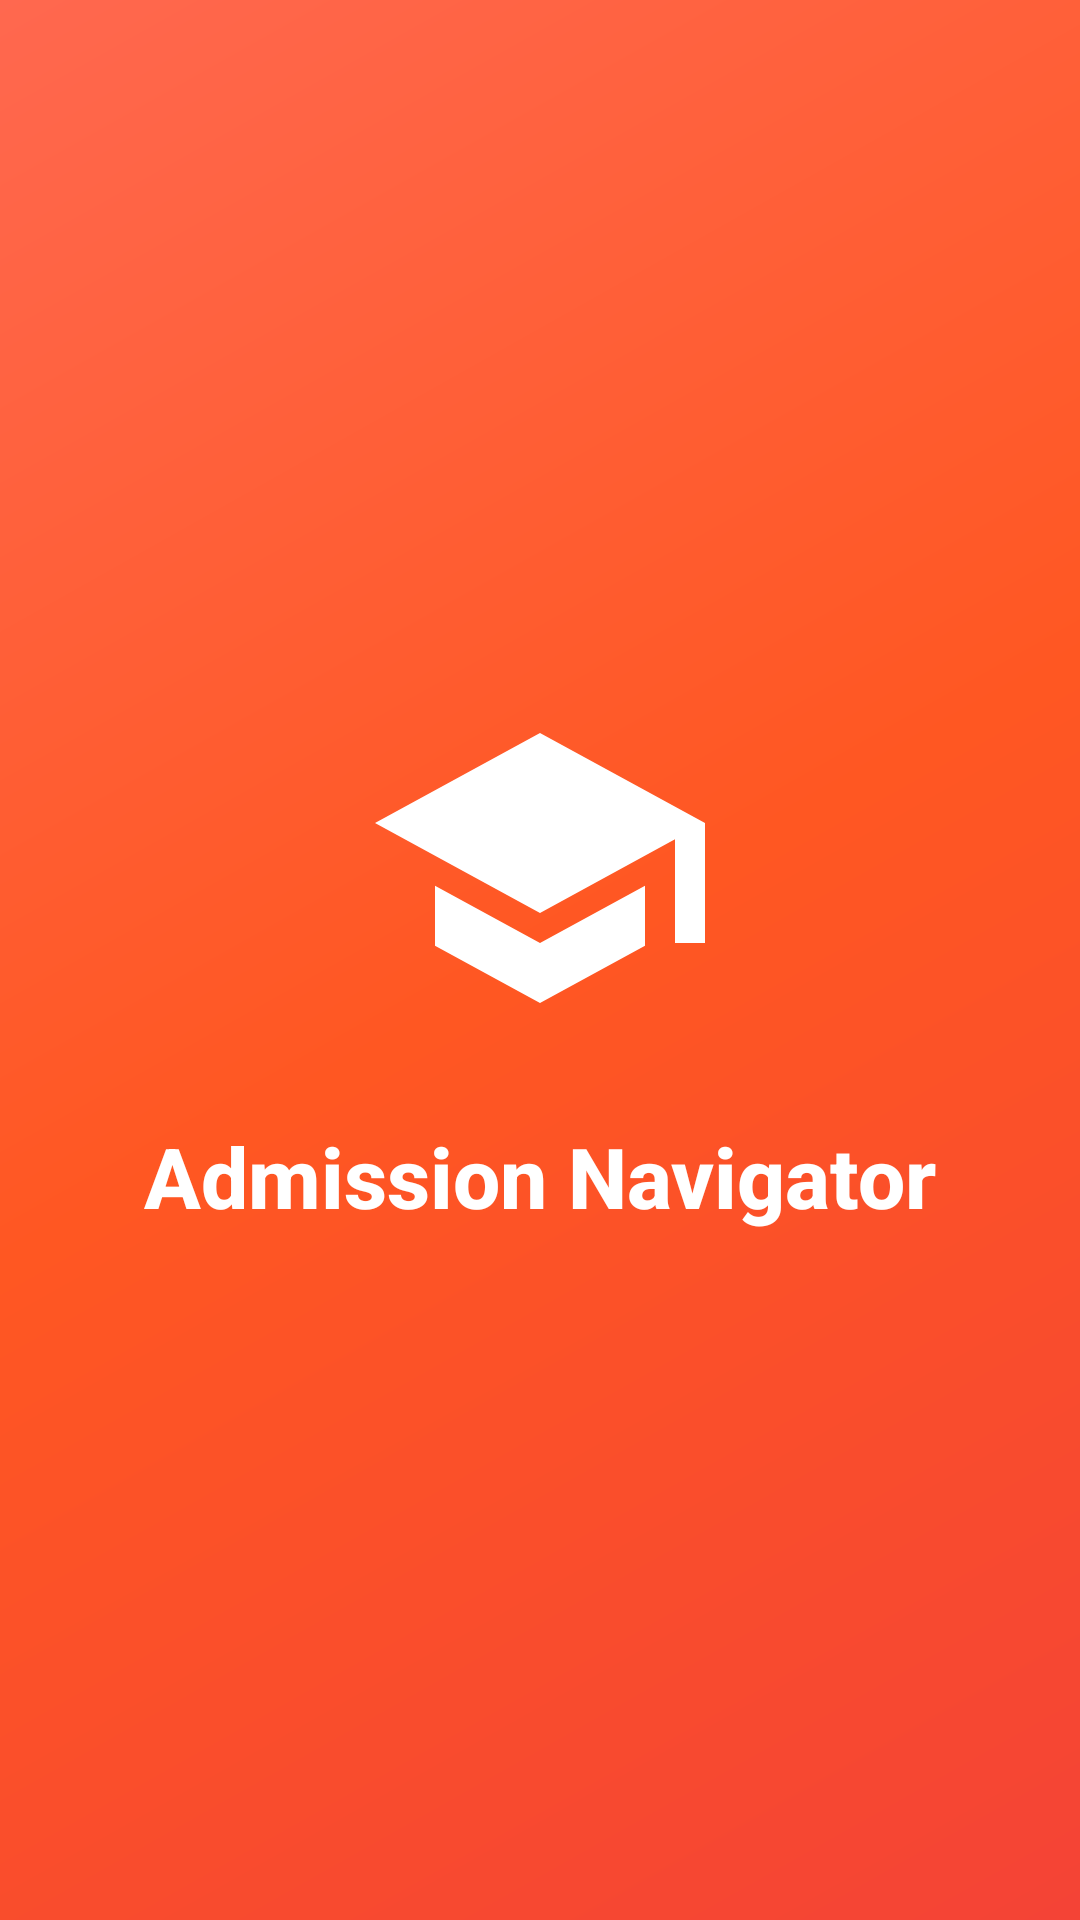

Icon bounding boxes for this 1080×1920 phone screenshot, format (x1, y1, x2, y2):
school: (375, 733, 705, 1003)
